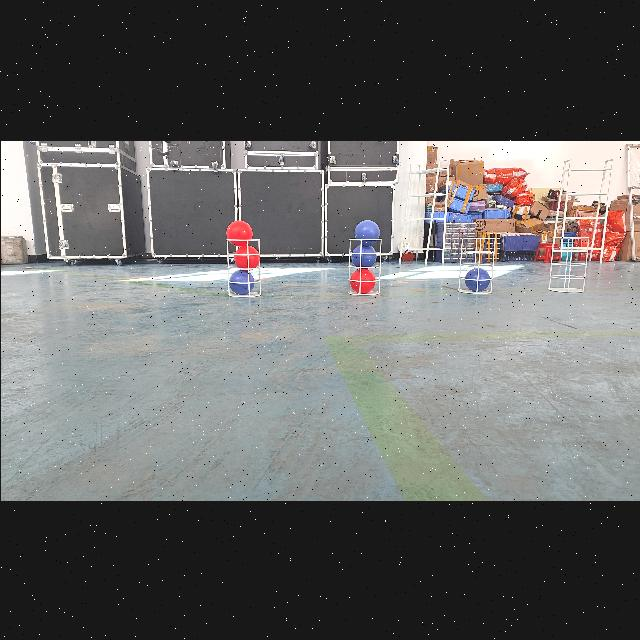B: (230, 268, 256, 294), (350, 242, 376, 268), (464, 266, 491, 290), (354, 220, 380, 244)
R: (226, 220, 254, 246), (349, 268, 377, 292), (234, 245, 258, 269)
S: (544, 233, 592, 293), (456, 232, 500, 294), (223, 233, 263, 300), (343, 236, 385, 294)
